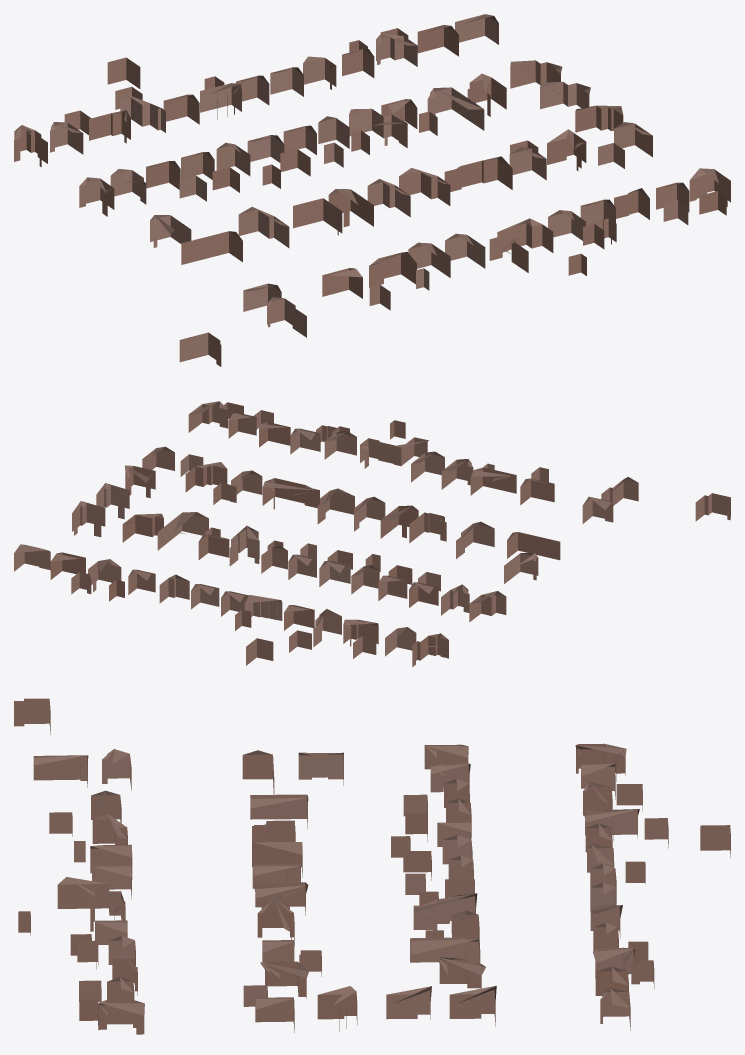
Rendered from c_1647_17825_buildings_residential.glb.
3 renders of one model, top to bottom at view 1: azimuth 30°, elevation 25°; view 2: azimuth 150°, elevation 25°; view 3: azimuth 270°, elevation 25°, orthographic. The views are drawn at different scales.
Parts seen in each view (by area): view 1: geometry_0; view 2: geometry_0; view 3: geometry_0.
Part boxes in pixels (x1,y1,x2,y2): geometry_0: (14,14,730,366); geometry_0: (14,401,730,666); geometry_0: (14,698,730,1034).
Bounding box in the file's own units: 256 × 10.94 × 244.
